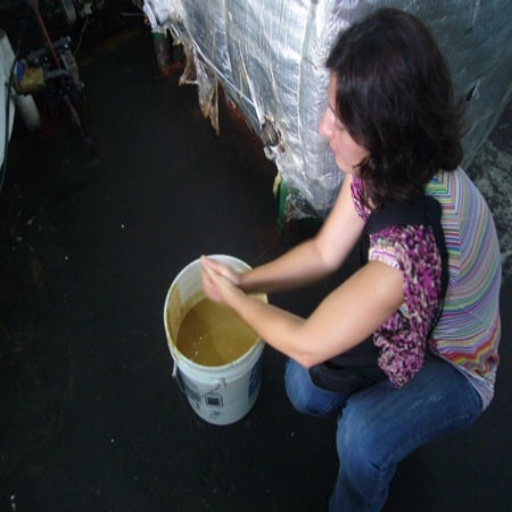hand: (200, 256, 244, 289)
